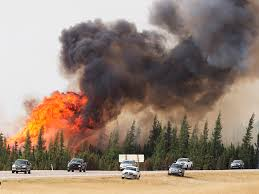smoke: (58, 1, 259, 133)
